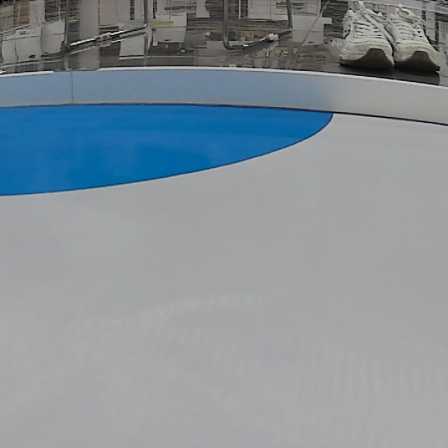blue_base: (0, 101, 335, 196)
